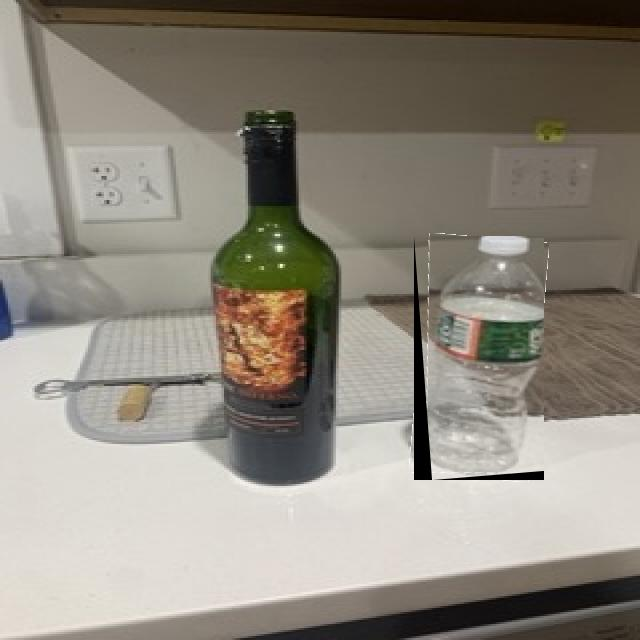water_bottle: (414, 236, 544, 480)
